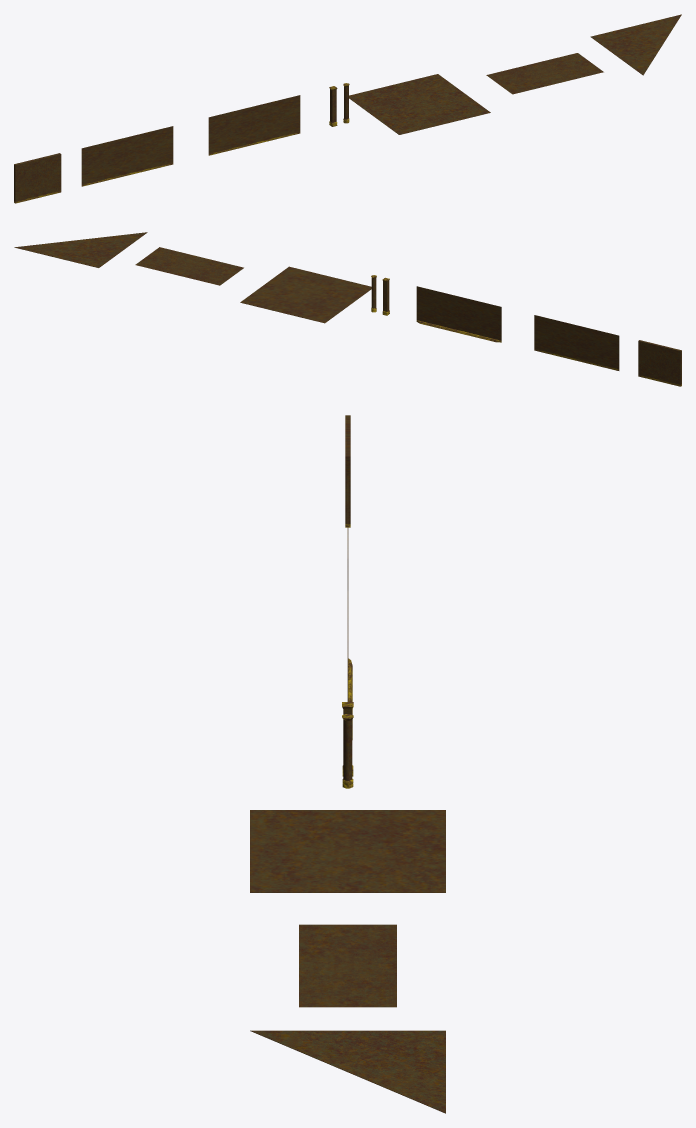
Rendered from wall_1.fbx.
3 renders of one model, top to bottom at view 1: azimuth 30°, elevation 25°; view 2: azimuth 150°, elevation 25°; view 3: azimuth 270°, elevation 25°, orthographic. The views are drawn at different scales.
Parts seen in each view (by area): view 1: BronzFloor, BronzWall_2, BronzWall, BronzFloorChese, BronzFloorShort, BronzShortWall; view 2: BronzFloor, BronzWall, BronzWall_2, BronzFloorChese, BronzFloorShort, BronzShortWall, piller_1; view 3: BronzFloor, BronzFloorChese, BronzFloorShort.
Boxes of the visible parts, bbox=[...] form: BronzFloor: bbox=[349, 74, 490, 134]; BronzWall_2: bbox=[81, 126, 173, 186]; BronzWall: bbox=[208, 95, 300, 155]; BronzFloorChese: bbox=[590, 14, 681, 75]; BronzFloorShort: bbox=[486, 53, 603, 94]; BronzShortWall: bbox=[14, 153, 61, 203]; BronzFloor: bbox=[240, 266, 371, 323]; BronzWall: bbox=[416, 286, 501, 342]; BronzWall_2: bbox=[534, 315, 619, 370]; BronzFloorChese: bbox=[14, 232, 147, 267]; BronzFloorShort: bbox=[135, 247, 243, 285]; BronzShortWall: bbox=[638, 340, 681, 386]; piller_1: bbox=[382, 277, 389, 315]; BronzFloor: bbox=[250, 810, 445, 892]; BronzFloorChese: bbox=[250, 1030, 445, 1113]; BronzFloorShort: bbox=[299, 924, 396, 1007].
Size of the model in its own units: 151 by 8.01 by 20.
